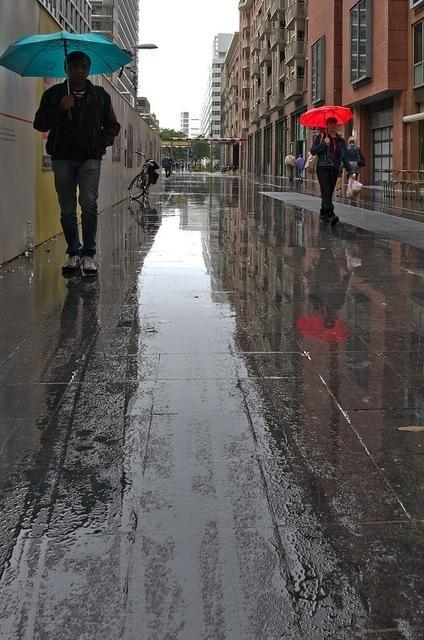bicycle: (126, 151, 162, 201)
